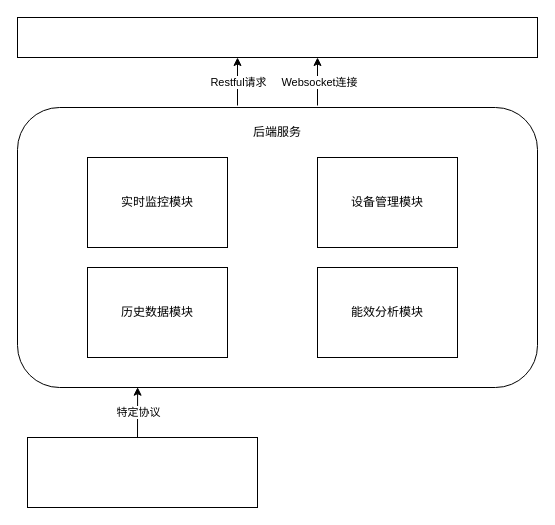
Image size: 555x525. Some labels were removed from this diagram. The shapes that lost their labels are listed below. From the top down, each one's centre as x and y in pixels, then its label:
At point 277,37: "展示层-React.js".
At point 142,472: "硬件信息源".
